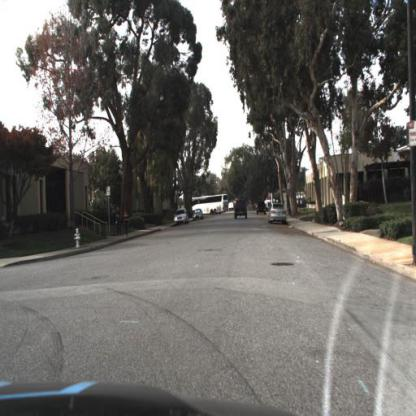car: (192, 195, 230, 216), (269, 204, 289, 226), (234, 200, 251, 223), (174, 208, 192, 226), (256, 200, 269, 218), (194, 206, 206, 222)
pedestrian: (112, 203, 123, 239), (122, 207, 132, 239), (122, 210, 129, 238), (116, 213, 123, 240)
truck: (189, 194, 231, 217)
